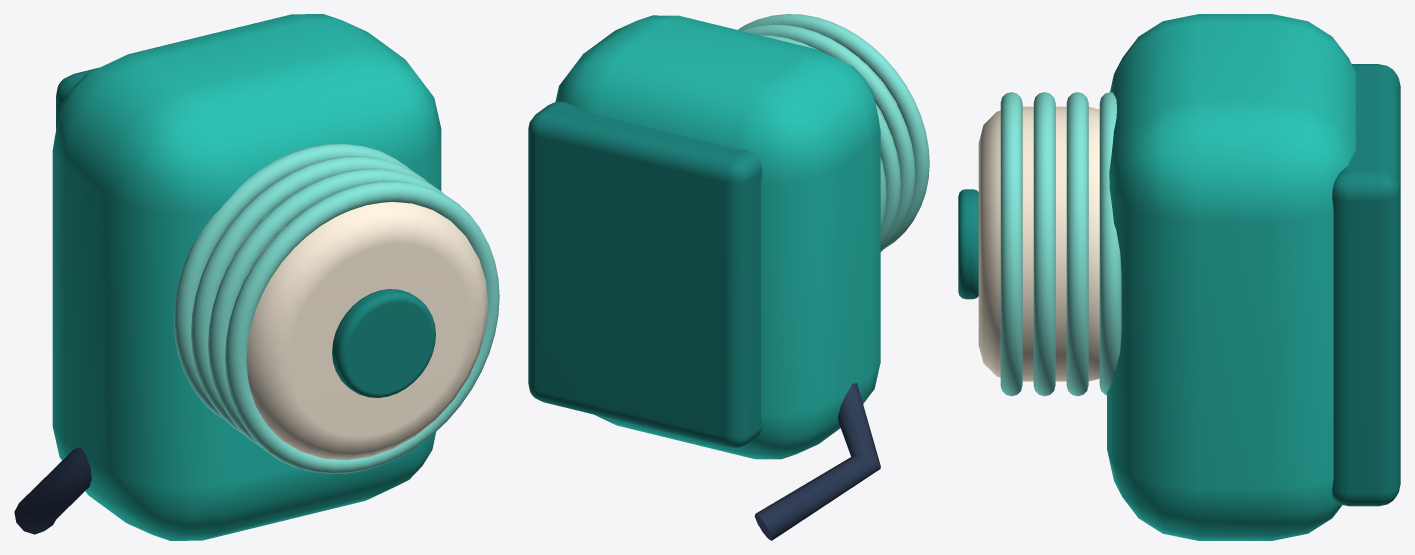
File: PumpMotor.fbx
The picture shows the model from 3 angles, left to right: view 1: azimuth 30°, elevation 25°; view 2: azimuth 150°, elevation 25°; view 3: azimuth 270°, elevation 25°; orthographic projection. The views are drawn at different scales.
Parts seen in each view (by area): view 1: PumpMotor mesh; view 2: PumpMotor mesh; view 3: PumpMotor mesh.
Part boxes in pixels (<box>): PumpMotor mesh: <box>14,14,499,540</box>; PumpMotor mesh: <box>528,14,929,540</box>; PumpMotor mesh: <box>958,14,1400,540</box>.
Bounding box in the file's own units: 0.2299 × 0.2892 × 0.241.
